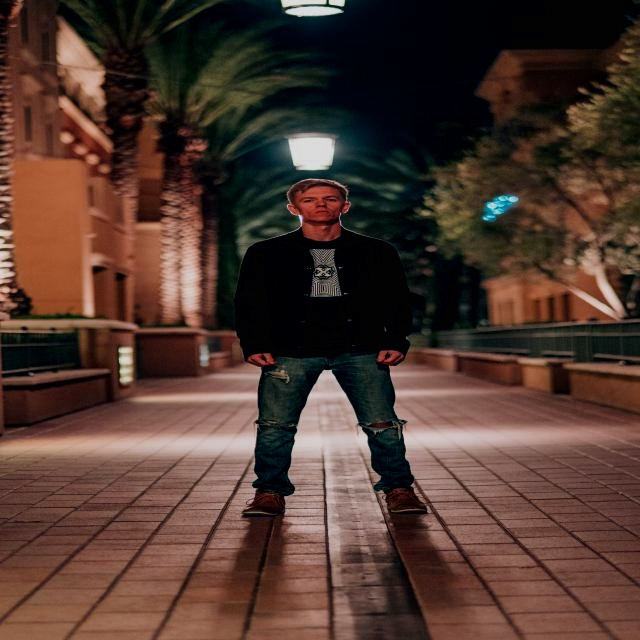ripped_pants: (247, 351, 410, 497)
